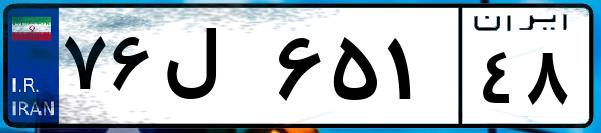1: (385, 28, 445, 110)
4: (475, 38, 525, 113)
5: (330, 28, 385, 110)
6: (270, 28, 330, 110), (110, 28, 158, 98)
7: (57, 26, 110, 100)
8: (525, 38, 570, 115)
ل: (158, 20, 270, 120)
